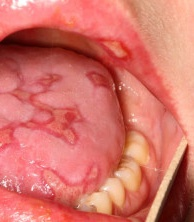SJS-TEN: (0, 0, 183, 222)
